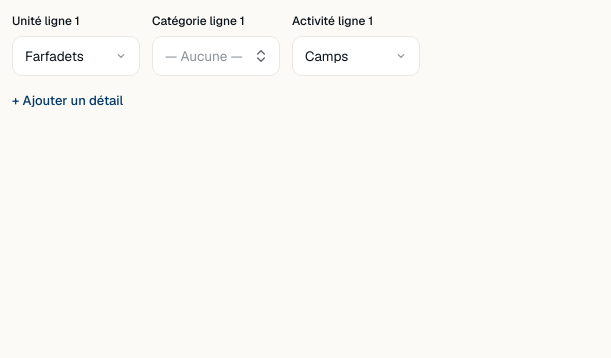
Scenario: ImputationGrid › « Ajouter un détail » passe en ventilé en place : ligne 1 = total, ligne 2 héritée
Click the button "+ Ajouter un détail": (68, 101) [12,91,123,110]
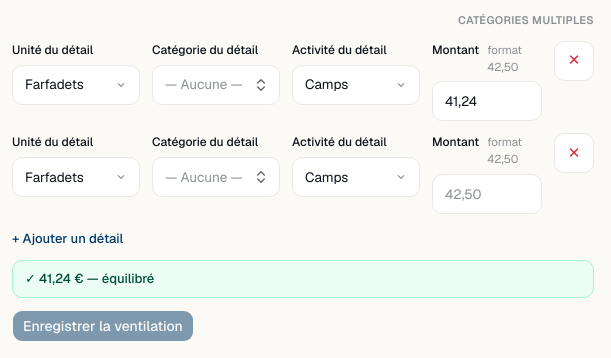
expect the number of fields labelled "Montant" is 2: met, box [432,81,542,121]; [432,174,542,214]
expect the 1st field labelled "Montant" holds "41,24": met, box [432,81,542,121]
expect the 2nd field labelled "Montant" is empty: met, box [432,174,542,214]
